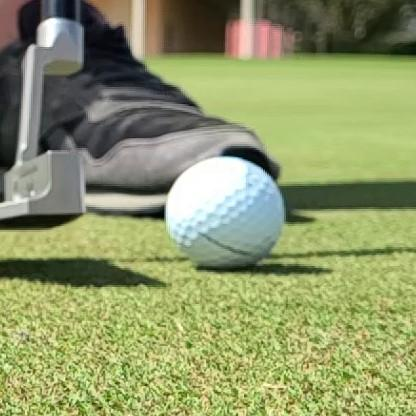golfball: (166, 157, 285, 269)
